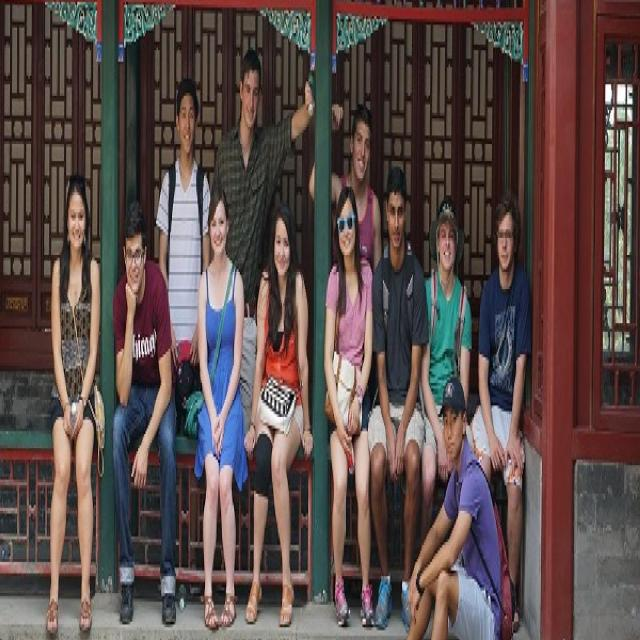body: (210, 47, 315, 464), (242, 198, 314, 630), (110, 194, 180, 631), (43, 166, 107, 639), (367, 163, 430, 633), (405, 375, 513, 640), (469, 193, 534, 632), (192, 179, 249, 634), (322, 180, 377, 630), (155, 73, 211, 440), (420, 193, 472, 552), (308, 98, 382, 286)
